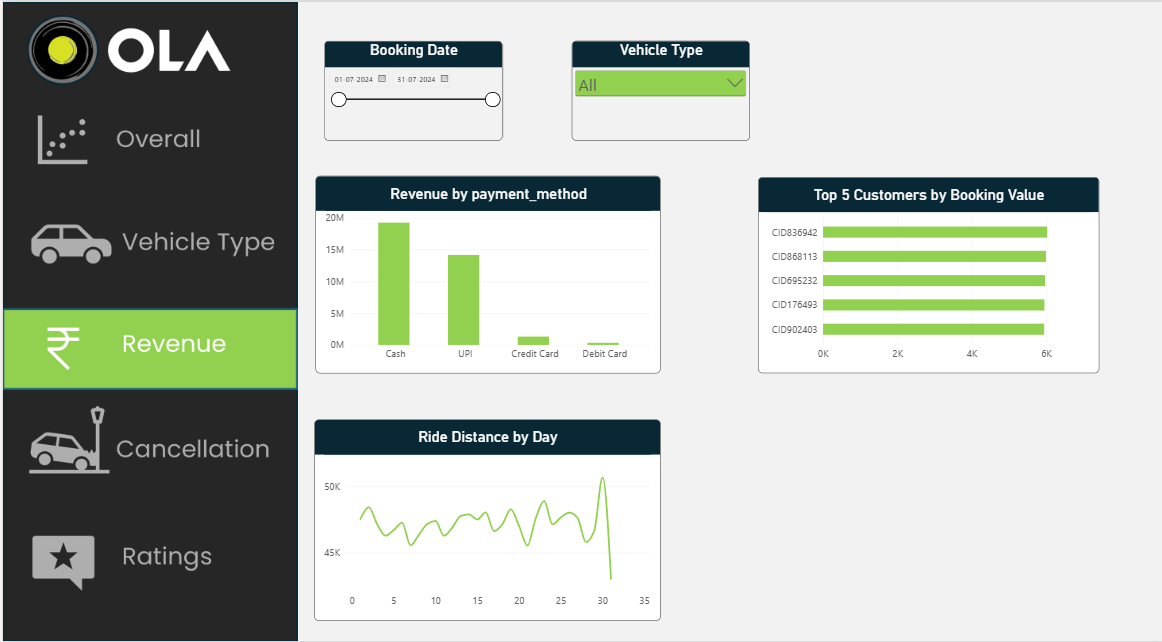

This screenshot's page, from the dashboard's own definition file:
{"tool":"powerbi","page":{"name":"Revenue","canvas":[1968,1080],"ordinal":2},"visuals":[{"type":"slicer","title":"Vehicle Type","fields":{"Values":["vehicle_icons.vehicle_type"]},"box":[959.2,65.9,300.5,168.8],"z":0},{"type":"clusteredColumnChart","title":"Revenue by payment_method","fields":{"Category":["ola_rides.payment_method"],"Y":["ola_rides.Total Revenue"]},"box":[527.4,293.3,582.3,333.3],"z":1000},{"type":"clusteredBarChart","title":"Top 5 Customers by Booking Value","fields":{"Category":["ola_rides.customer_id"],"Y":["ola_rides.Total Revenue"]},"box":[1274.3,295.4,576,331.2],"z":2000},{"type":"lineChart","title":"Ride Distance by Day","fields":{"Category":["ola_rides.booking_date.Variation.Date Hierarchy.Day"],"Y":["ola_rides.Total Distance Travelled"]},"box":[525.3,704.7,584.4,339.7],"z":3000},{"type":"slicer","title":"Booking Date","fields":{"Values":["ola_rides.booking_datetime"]},"box":[542.2,65.4,301,169],"z":4000},{"type":"actionButton","box":[0,875.6,497.9,168.8],"z":5000},{"type":"actionButton","box":[0,649.8,497.9,192],"z":6000},{"type":"actionButton","box":[0,335.5,497.9,181.4],"z":7000},{"type":"actionButton","box":[0,181.4,497.9,154],"z":8000}]}

Visuals, with their boxes on the page's 1968x1080 design canvas (x1, y1, x2, y2). These are canvas units, not pixel positions in the 1162x642 screenshot, which may show the page scaled, cropped or inside an application window:
"Vehicle Type" slicer: box=[959, 66, 1260, 235]
"Revenue by payment_method" clusteredColumnChart: box=[527, 293, 1110, 627]
"Top 5 Customers by Booking Value" clusteredBarChart: box=[1274, 295, 1850, 627]
"Ride Distance by Day" lineChart: box=[525, 705, 1110, 1044]
"Booking Date" slicer: box=[542, 65, 843, 234]
actionButton: box=[0, 876, 498, 1044]
actionButton: box=[0, 650, 498, 842]
actionButton: box=[0, 336, 498, 517]
actionButton: box=[0, 181, 498, 335]
